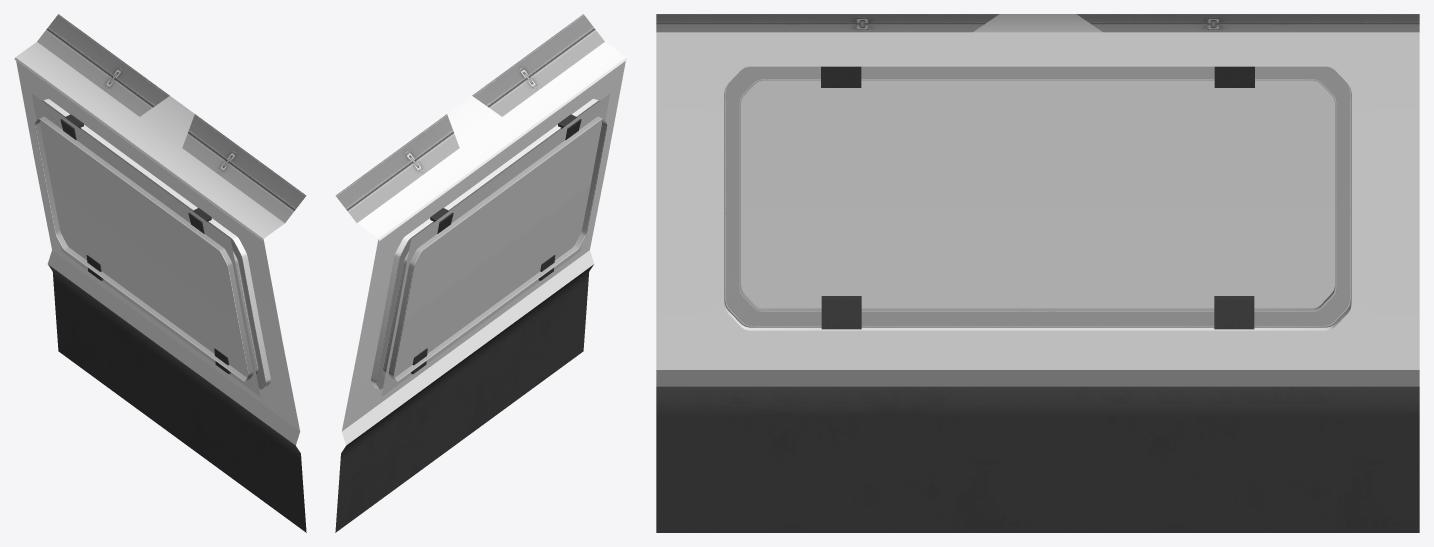
Rendered from town-window-astra-C0Tgs7se.glb.
The picture shows the model from 3 angles, left to right: view 1: azimuth 30°, elevation 25°; view 2: azimuth 150°, elevation 25°; view 3: azimuth 270°, elevation 25°; orthographic projection. The views are drawn at different scales.
Visible parts, largest first — view 1: WallAstra_Straight_Window; view 2: WallAstra_Straight_Window; view 3: WallAstra_Straight_Window.
Part boxes in pixels (box(x1,y1,x2,y2)): WallAstra_Straight_Window: box(14, 14, 306, 532); WallAstra_Straight_Window: box(335, 14, 627, 532); WallAstra_Straight_Window: box(656, 14, 1419, 532).
Bounding box in the file's own units: 0.4976 × 3 × 4.
Materials: 4 (2 with a texture image).
